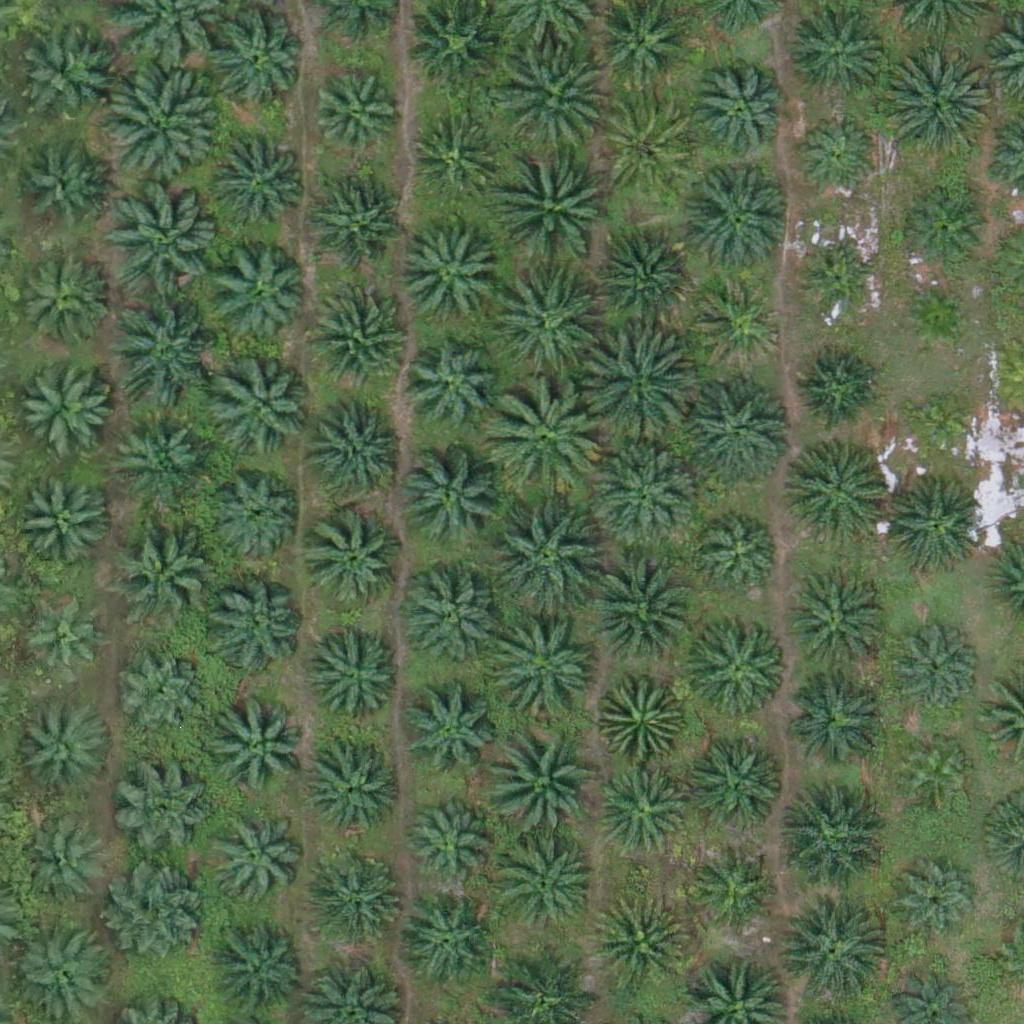Kelapa_Sawit: (486, 268, 599, 382), (495, 40, 608, 154), (491, 615, 604, 728), (490, 499, 603, 612), (879, 47, 992, 160), (103, 68, 216, 181), (591, 436, 703, 550), (497, 143, 609, 257), (104, 295, 216, 408), (490, 829, 602, 942), (485, 719, 597, 832), (488, 382, 600, 495), (578, 330, 690, 443), (583, 551, 695, 664), (681, 371, 793, 484), (772, 782, 884, 895), (773, 896, 885, 1009), (680, 161, 792, 274), (110, 184, 222, 297), (4, 20, 116, 133), (13, 474, 113, 575), (15, 355, 115, 456), (11, 246, 111, 347), (110, 407, 210, 508), (113, 518, 213, 619), (112, 756, 212, 857), (110, 860, 210, 961), (207, 241, 307, 342), (213, 695, 313, 796), (206, 810, 306, 911), (210, 919, 310, 1020), (303, 738, 403, 839), (305, 509, 405, 610), (306, 285, 406, 386), (403, 336, 503, 437), (401, 446, 501, 547), (396, 682, 496, 783), (399, 894, 499, 995), (589, 893, 689, 994), (688, 737, 788, 838), (687, 613, 787, 714), (789, 577, 889, 678), (787, 668, 887, 769), (880, 475, 980, 576), (787, 1, 887, 102), (689, 60, 789, 161), (308, 173, 408, 274), (207, 6, 307, 107), (205, 132, 305, 233), (212, 360, 312, 460), (203, 577, 303, 677), (311, 849, 411, 949), (306, 625, 406, 725), (313, 396, 413, 496), (397, 227, 497, 327), (400, 564, 500, 664), (593, 231, 693, 331), (786, 439, 886, 539), (598, 97, 698, 197), (22, 700, 110, 788), (117, 650, 205, 738), (600, 763, 688, 851), (694, 838, 782, 926), (894, 853, 982, 941), (792, 114, 880, 202), (408, 112, 496, 200), (310, 74, 398, 162), (18, 141, 106, 229), (16, 593, 103, 682), (695, 279, 782, 367), (17, 821, 104, 909), (212, 471, 299, 559), (406, 796, 493, 884), (598, 671, 685, 759), (699, 513, 786, 601), (794, 343, 881, 431), (892, 620, 979, 708), (898, 186, 985, 274), (898, 278, 973, 354), (902, 386, 977, 462), (804, 249, 879, 324), (899, 734, 974, 809)
